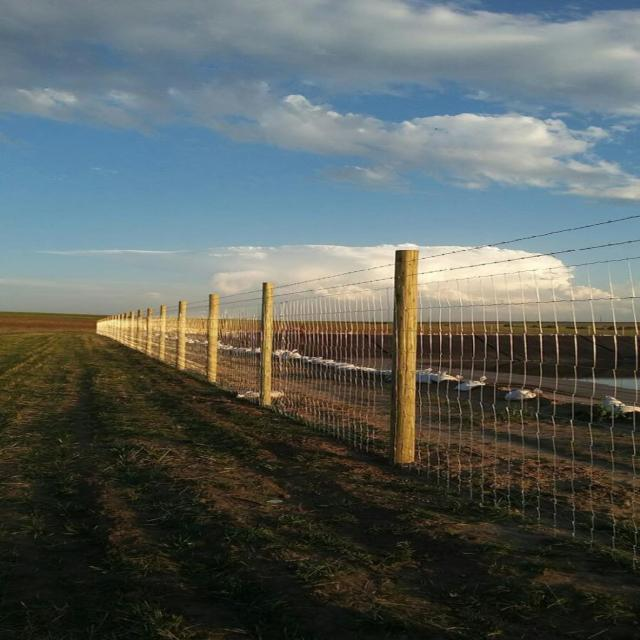fence: (158, 213, 638, 565)
